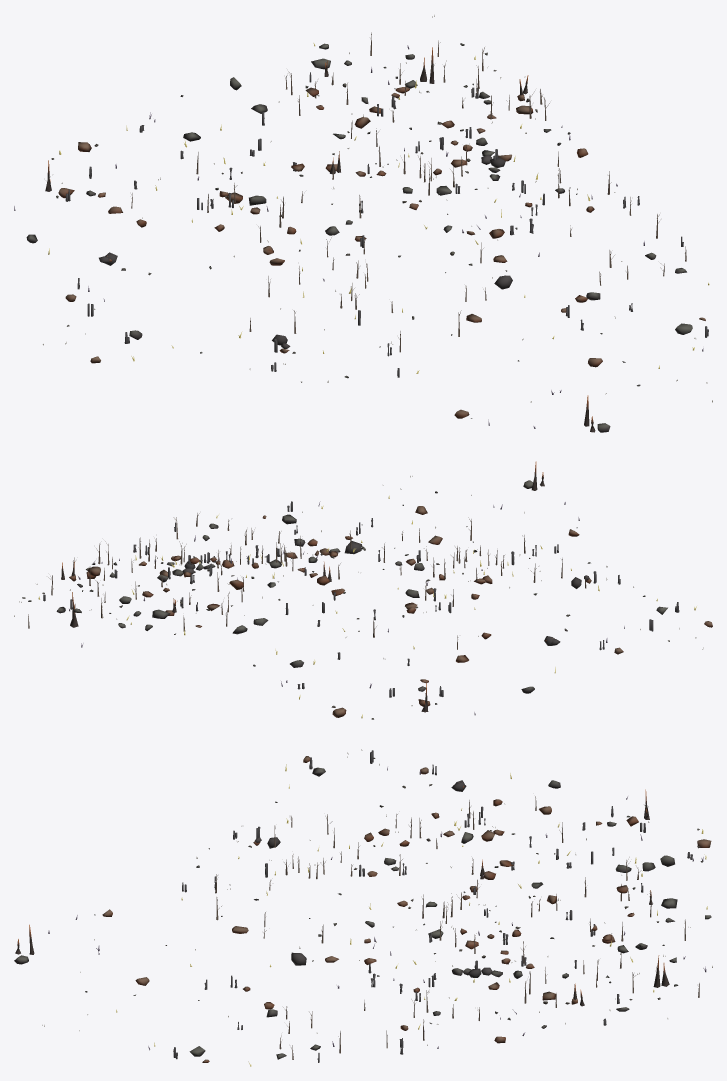
File: ash_land_scatter_c17_28_lod1.glb
3 renders of one model, top to bottom at view 1: azimuth 30°, elevation 25°; view 2: azimuth 150°, elevation 25°; view 3: azimuth 270°, elevation 25°, orthographic. The views are drawn at different scales.
Visible parts, largest first — view 1: ash_land_scatter_c17_28_lod1; view 2: ash_land_scatter_c17_28_lod1; view 3: ash_land_scatter_c17_28_lod1.
Boxes of the visible parts, x1,y1,x2,y2 form: ash_land_scatter_c17_28_lod1: (14, 15, 712, 432); ash_land_scatter_c17_28_lod1: (14, 461, 712, 719); ash_land_scatter_c17_28_lod1: (14, 749, 712, 1066).
Size of the model in its own units: 227 by 47.2 by 239.
